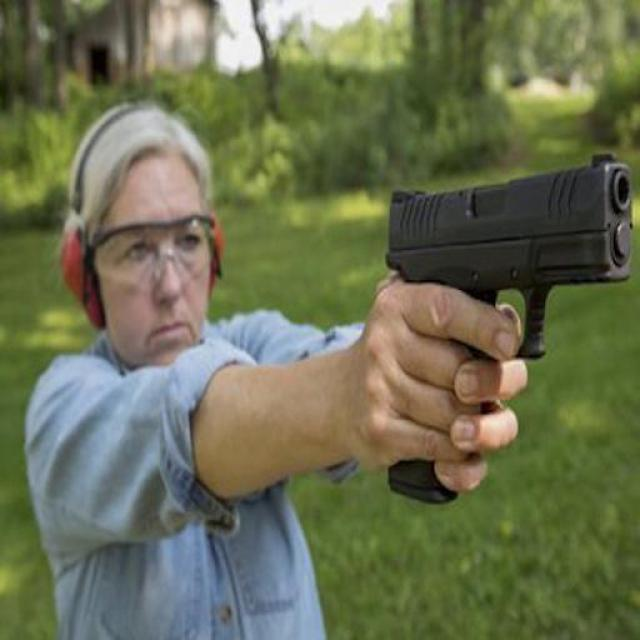pistol: (378, 154, 634, 495)
